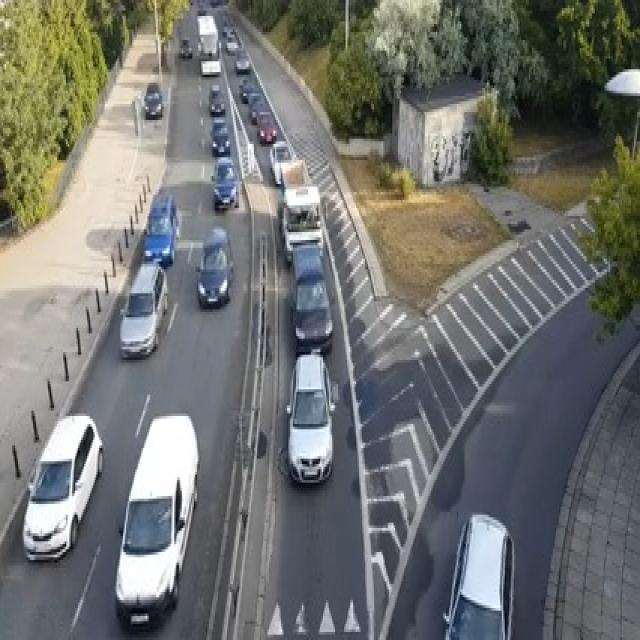car: (114, 413, 198, 630), (21, 413, 104, 560), (442, 512, 515, 637), (285, 352, 335, 485), (288, 243, 334, 352), (119, 259, 168, 357), (279, 184, 323, 264), (195, 226, 233, 306), (143, 192, 179, 267), (210, 154, 239, 210), (269, 139, 291, 184), (197, 13, 218, 56), (141, 80, 164, 117), (210, 117, 230, 155), (200, 40, 221, 75), (257, 109, 276, 144), (208, 82, 225, 114), (251, 96, 267, 123), (240, 80, 260, 101), (234, 51, 251, 72), (179, 37, 192, 59), (224, 32, 237, 53), (221, 16, 233, 35), (197, 5, 206, 14), (209, 0, 221, 5)
